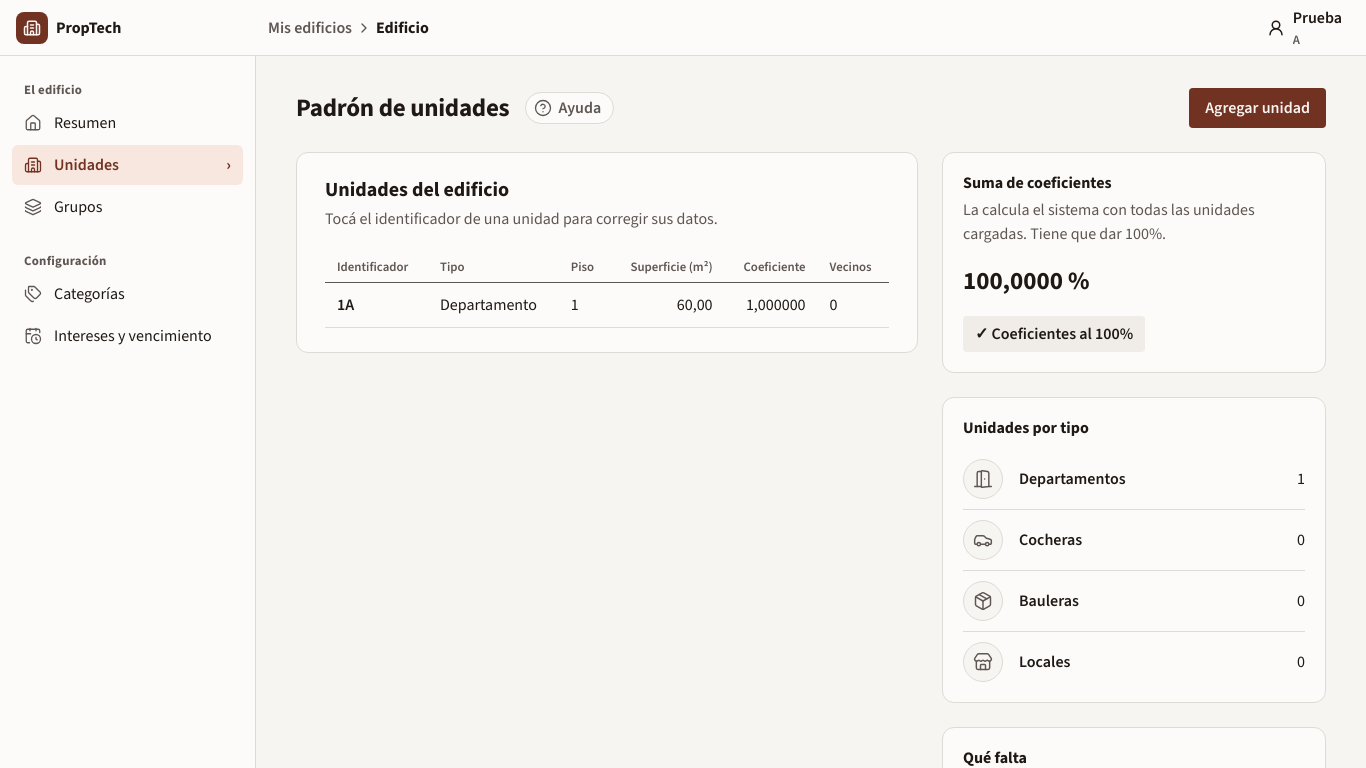
Scenario: R2D-R2: invitar habilita Agregar vecino
This screenshot has width=1366, height=768.
Click the button "1A" at (346, 305), box [337,295,354,314]
(page scrolled)
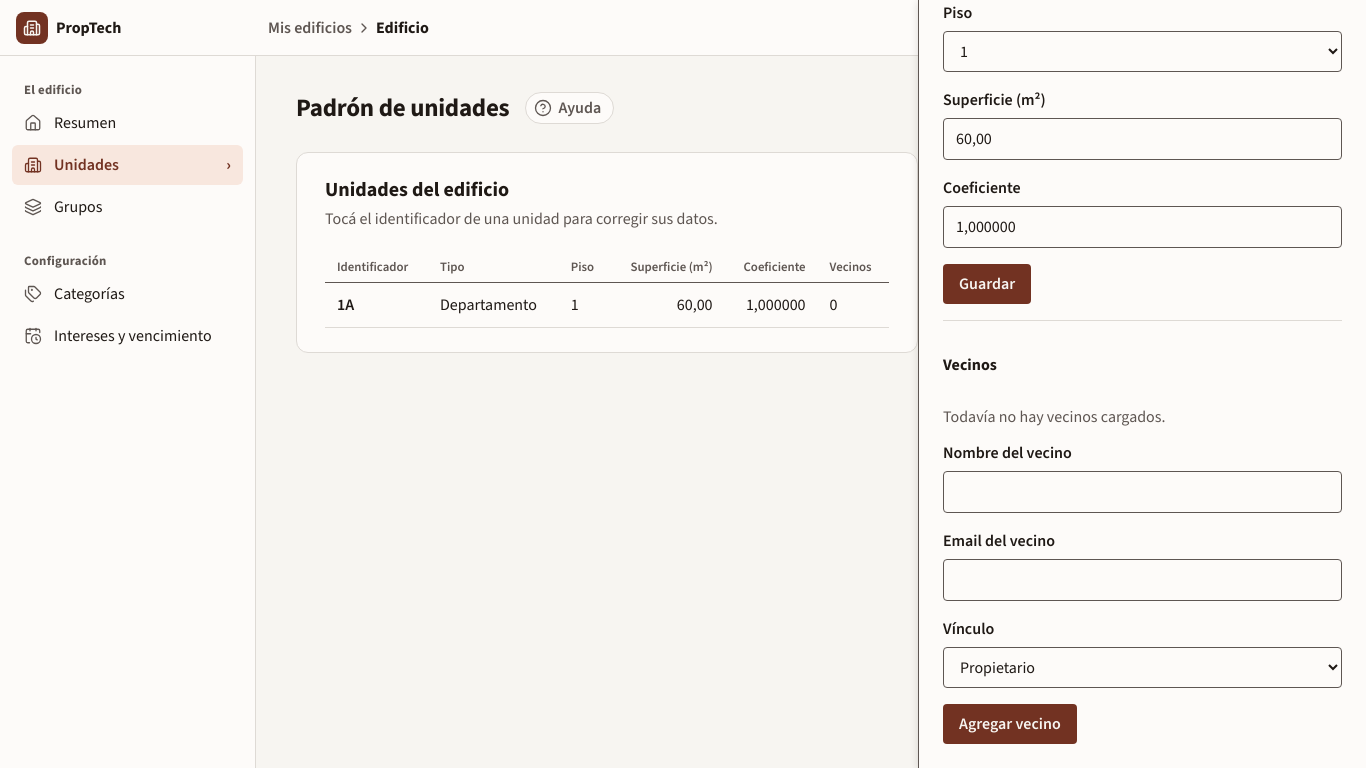
Check: the button "Agregar vecino" is shown, box [943,704,1077,744]
